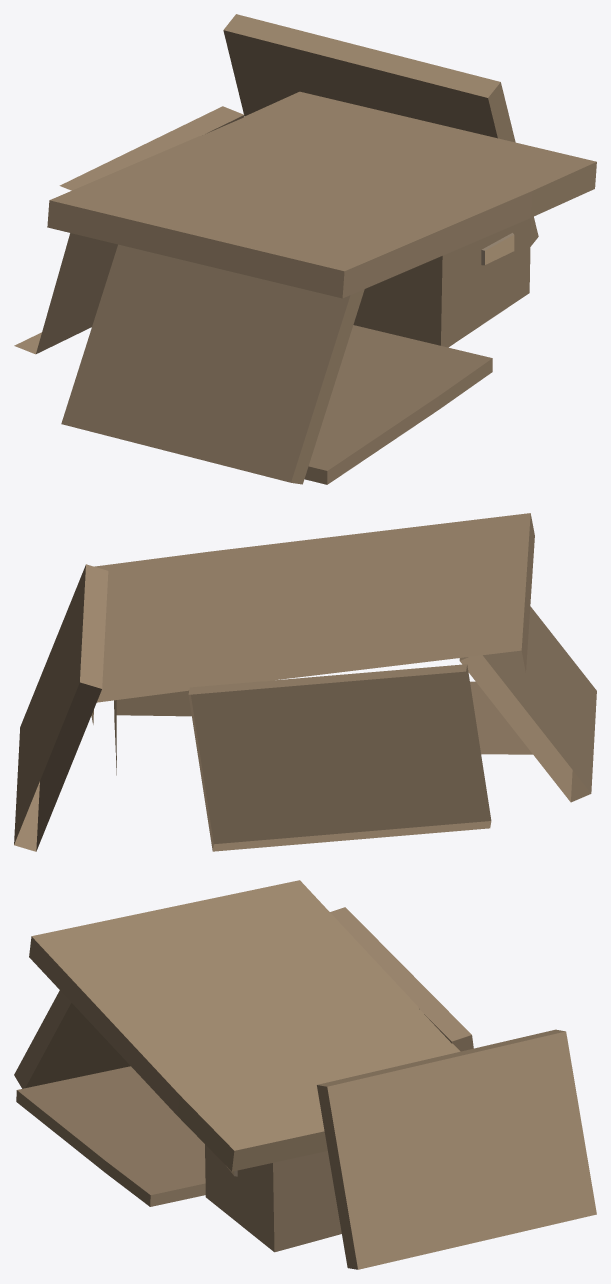
File: MSH_QuestObject_cabinet_06.fbx
3 renders of one model, top to bottom at view 1: azimuth 30°, elevation 25°; view 2: azimuth 150°, elevation 25°; view 3: azimuth 270°, elevation 25°, orthographic. The views are drawn at different scales.
Visible parts, largest first — view 1: MSH_QuestObject_cabinet_06; view 2: MSH_QuestObject_cabinet_06; view 3: MSH_QuestObject_cabinet_06.
Boxes of the visible parts, x1,y1,x2,y2 form: MSH_QuestObject_cabinet_06: [14, 14, 596, 484]; MSH_QuestObject_cabinet_06: [14, 513, 596, 851]; MSH_QuestObject_cabinet_06: [14, 880, 596, 1269].
Size of the model in its own units: 3.8 by 1.37 by 3.93.
